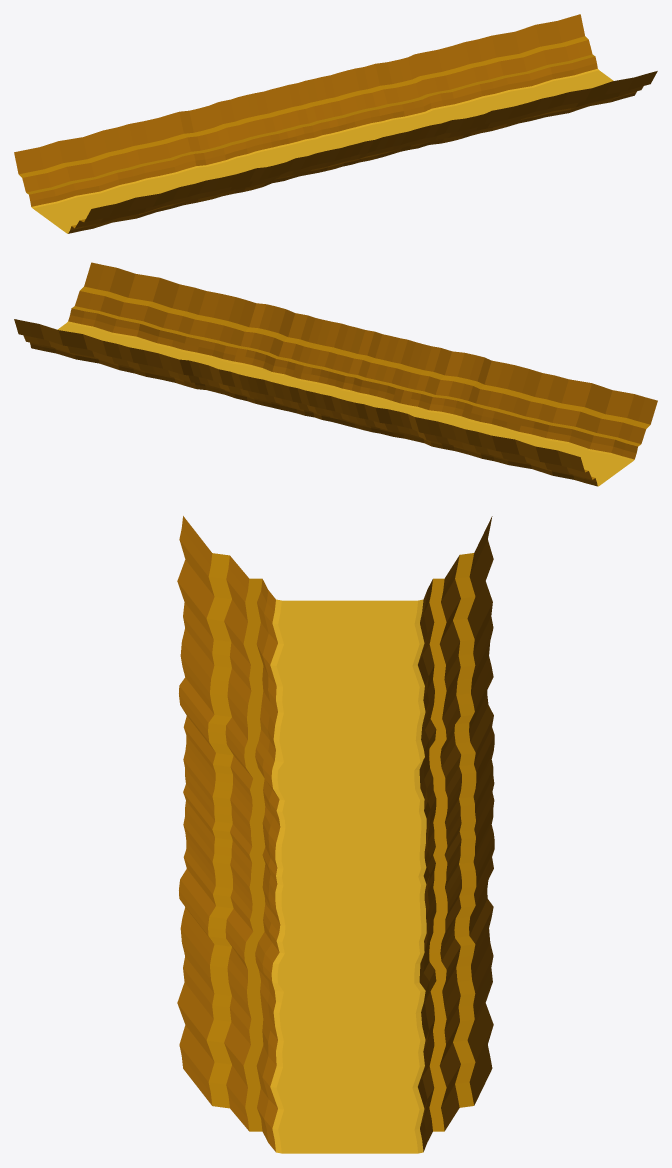
Rendered from main.FBX.
3 views of the same model, one above another, from view 1: azimuth 30°, elevation 25°; view 2: azimuth 150°, elevation 25°; view 3: azimuth 270°, elevation 25° (orthographic). The views are drawn at different scales.
Visible parts, largest first — view 1: MWall, MGround; view 2: MWall, MGround; view 3: MWall, MGround.
Boxes of the visible parts, box(x1,y1,x2,y2) form: MWall: box(14, 14, 657, 233); MGround: box(31, 68, 613, 233); MWall: box(14, 262, 657, 486); MGround: box(57, 321, 634, 486); MWall: box(177, 516, 494, 1151); MGround: box(270, 599, 426, 1153).
Size of the model in its own units: 400 by 28.69 by 97.02.
